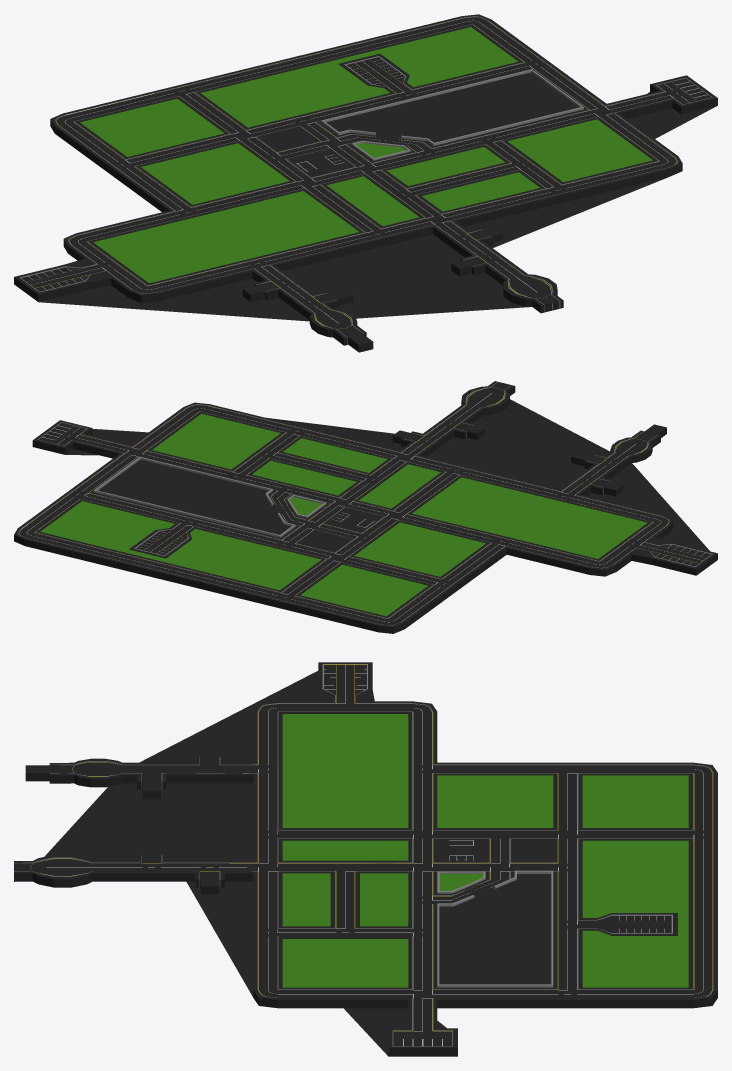
Rendered from Roads.fbx.
3 renders of one model, top to bottom at view 1: azimuth 30°, elevation 25°; view 2: azimuth 150°, elevation 25°; view 3: azimuth 270°, elevation 25°, orthographic. The views are drawn at different scales.
Visible parts, largest first — view 1: RoadMap; view 2: RoadMap; view 3: RoadMap.
Boxes of the visible parts, box(x1,y1,x2,y2) form: RoadMap: box(14, 14, 717, 352); RoadMap: box(14, 381, 717, 633); RoadMap: box(14, 662, 717, 1056).
Bounding box in the file's own units: 944 × 19.45 × 728.
